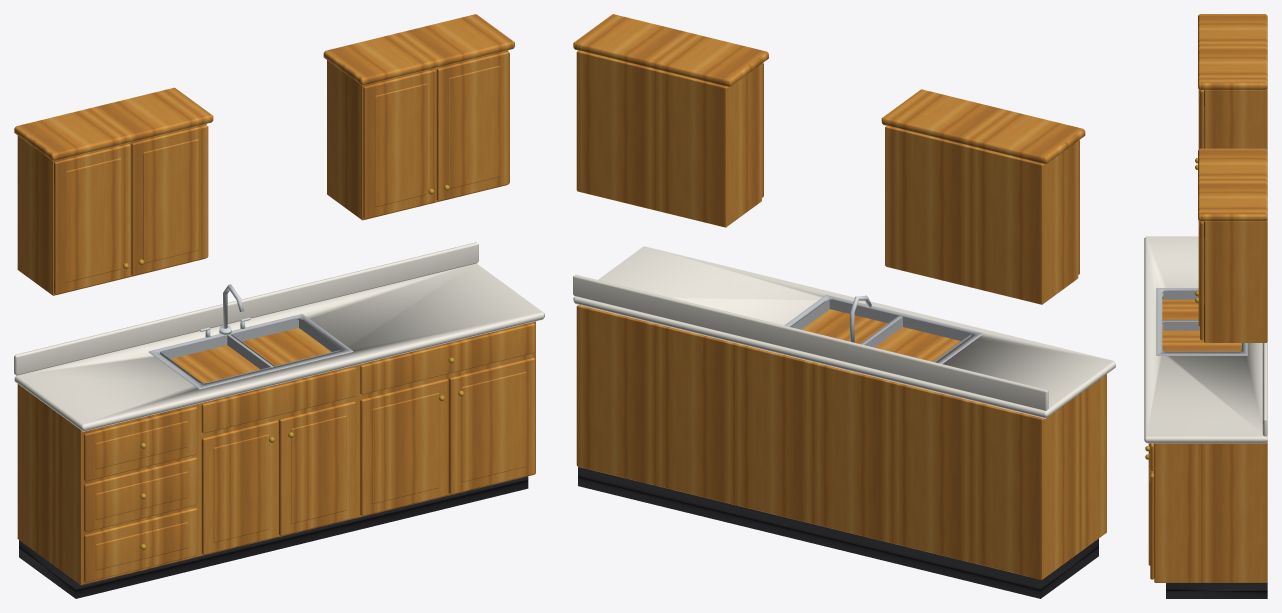
The model's file is kitchen_counter_90s.glb.
The picture shows the model from 3 angles, left to right: view 1: azimuth 30°, elevation 25°; view 2: azimuth 150°, elevation 25°; view 3: azimuth 270°, elevation 25°; orthographic projection. The views are drawn at different scales.
Visible parts, largest first — view 1: model; view 2: model; view 3: model.
Boxes of the visible parts, x1,y1,x2,y2 form: model: [14, 14, 544, 598]; model: [573, 14, 1115, 598]; model: [1144, 14, 1267, 598].
Bounding box in the file's own units: 2.4 × 2.14 × 0.62.
Materials: 6 (1 with a texture image).
